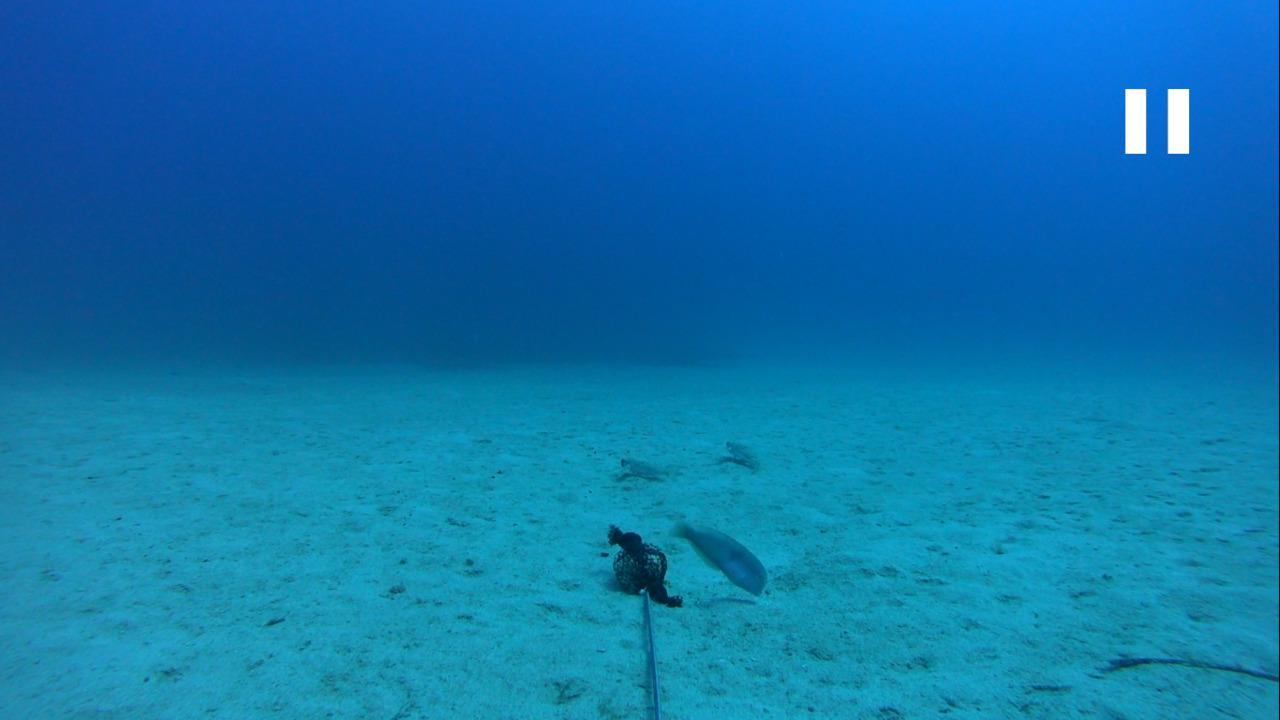dactylopterus: (604, 443, 672, 480), (711, 433, 767, 477)
raor: (667, 517, 770, 604)
